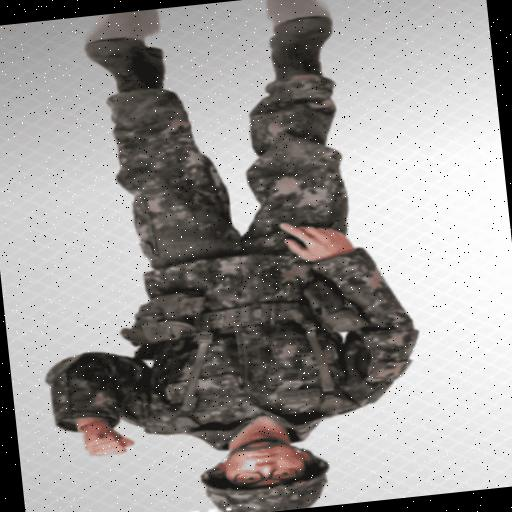korea army: (10, 7, 436, 512)
